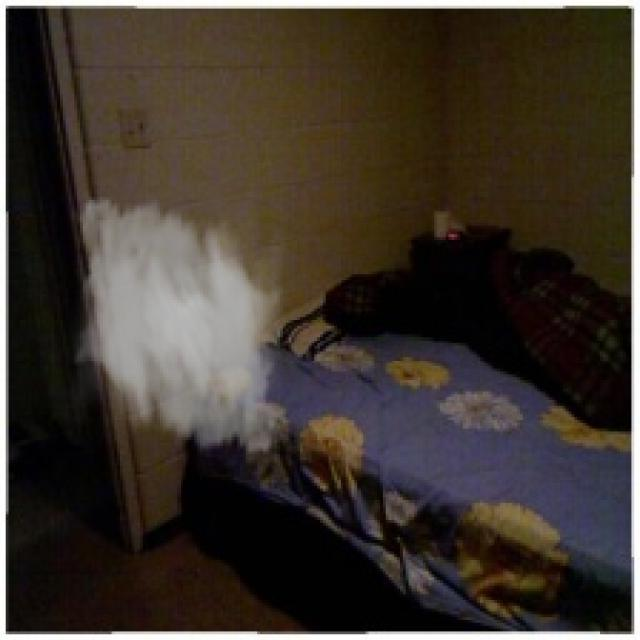Smoke: (57, 185, 294, 466)
